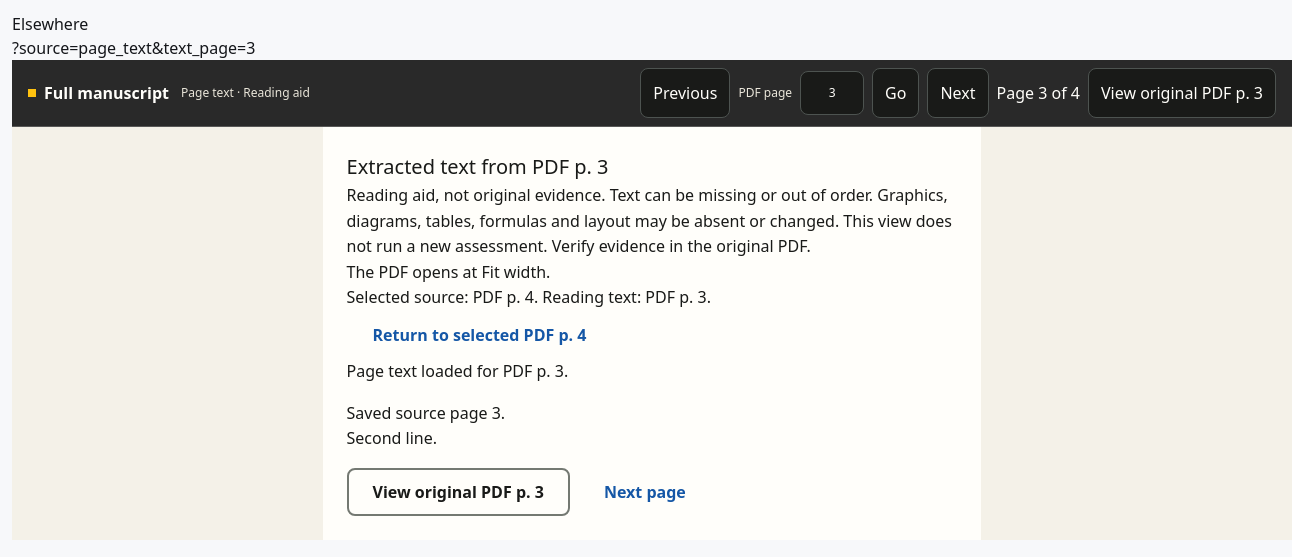
Page text source and explicit focus context › clears old page immediately and rejects a late response for that page
Expected: the text "Saved source page 3. Second line." is shown, 346,402 -> 505,449
Click the button "Next".
click(958, 93)  # box 927,68 -> 988,118
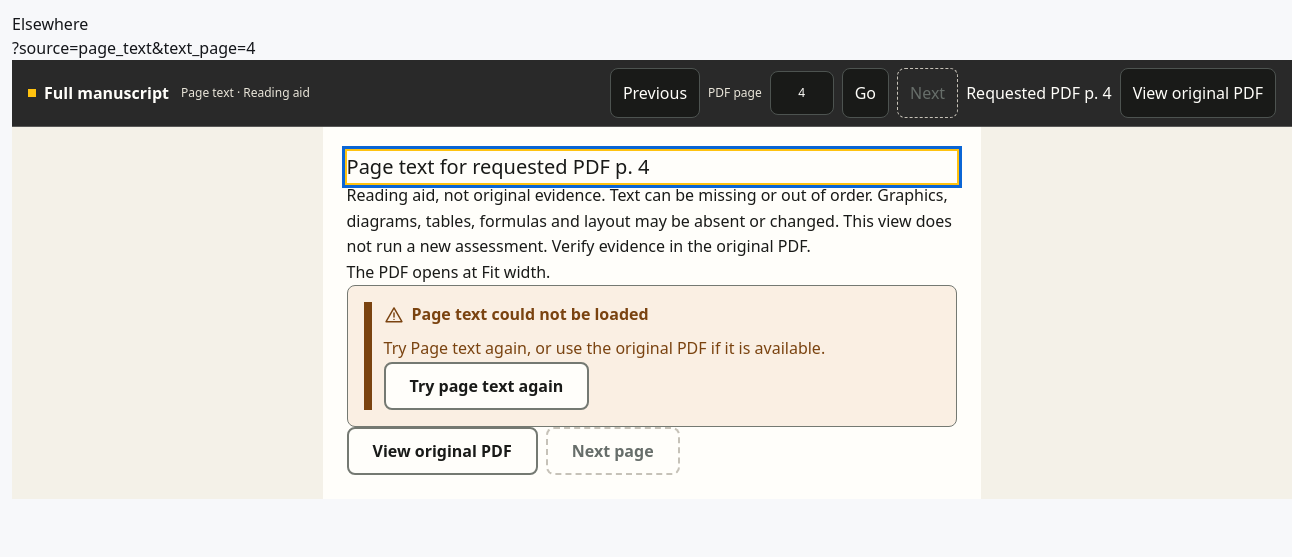
Result: the text "Page text could not be loaded" is shown at 384,303 -> 649,325
Result: the text "Saved source page 3" is gone
